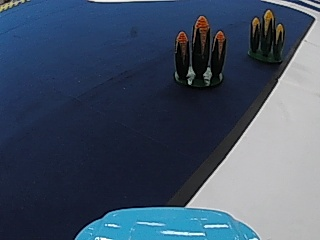corn: (171, 16, 228, 88), (245, 6, 286, 62)
